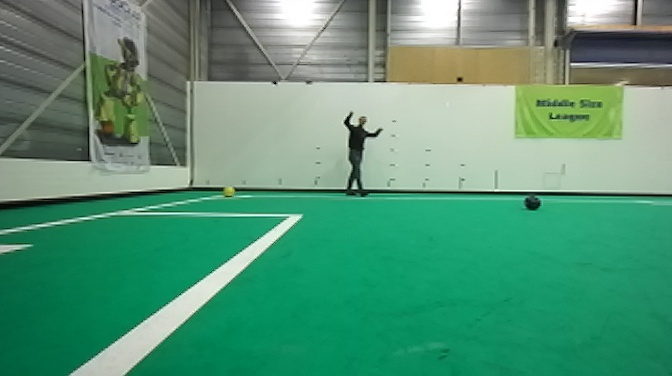ball: (523, 192, 544, 213), (223, 185, 237, 198)
human: (333, 108, 388, 199)
